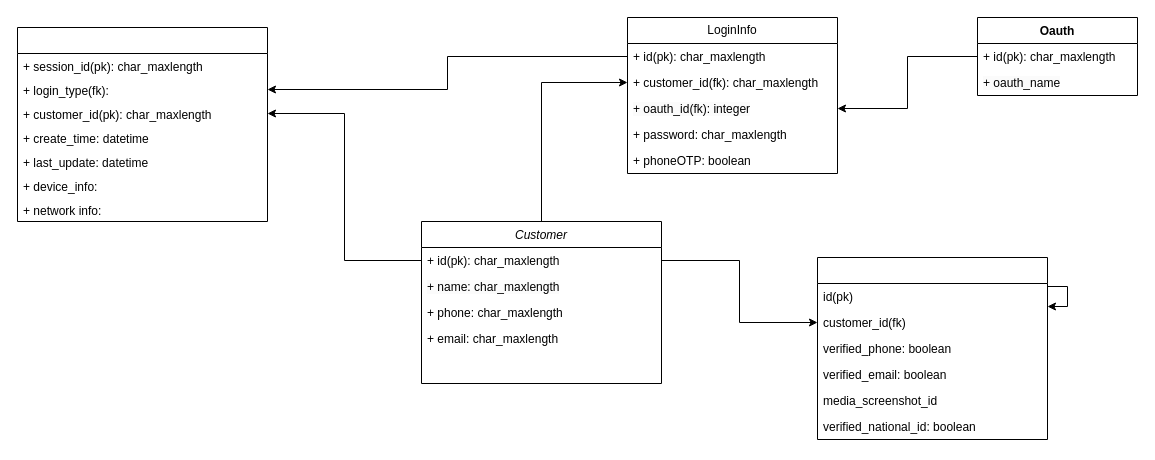
The diagram is 1155 pixels wide and 460 high, and some of its shapes have lost their labels. The box of each missing label's shape, as (x1, y1, x2, y2) in pixels:
CustomerKYC: (816, 256, 1048, 440)
LoginSession: (16, 26, 268, 222)
